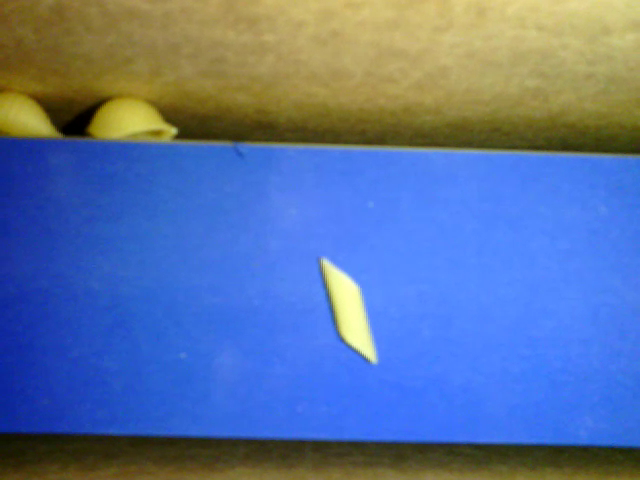penne: (322, 254, 380, 365)
shell: (81, 94, 179, 140), (1, 89, 70, 137)
